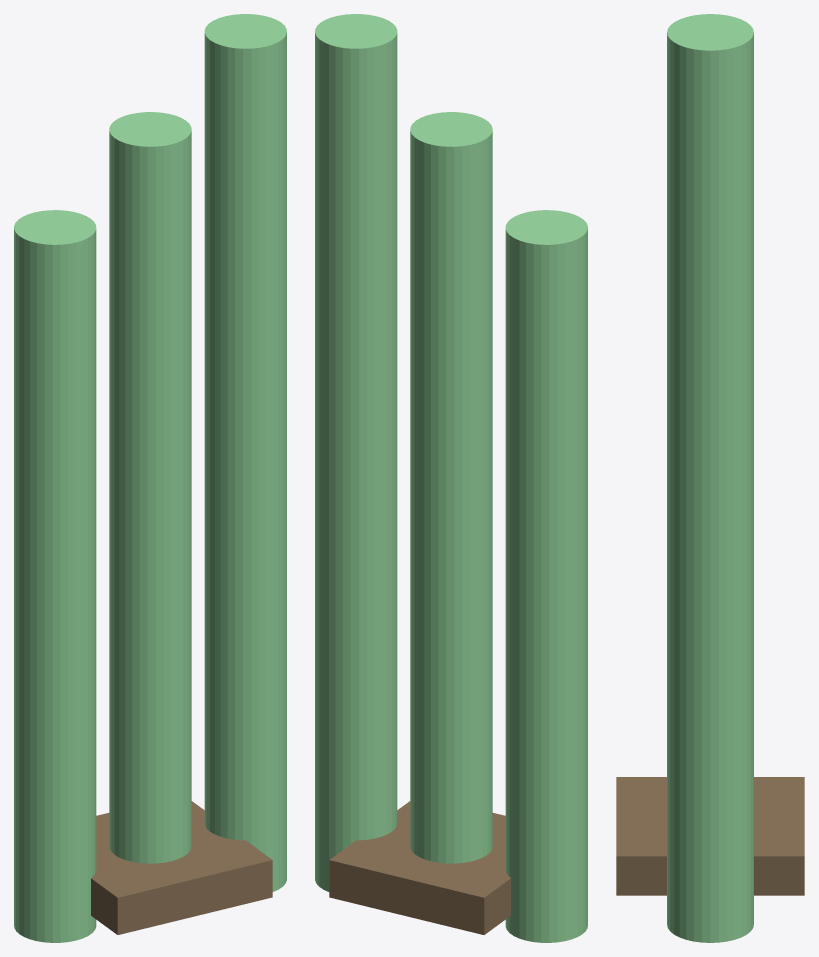
The model's file is pickup.bamboo.v1.glb.
3 renders of one model, left to right at view 1: azimuth 30°, elevation 25°; view 2: azimuth 150°, elevation 25°; view 3: azimuth 270°, elevation 25°, orthographic. The views are drawn at different scales.
Parts seen in each view (by area): view 1: pickup.bamboo.v1_stalk_2, pickup.bamboo.v1_stalk_1, pickup.bamboo.v1_stalk_0, pickup.bamboo.v1_base; view 2: pickup.bamboo.v1_stalk_2, pickup.bamboo.v1_stalk_1, pickup.bamboo.v1_stalk_0, pickup.bamboo.v1_base; view 3: pickup.bamboo.v1_stalk_2, pickup.bamboo.v1_base.
Boxes of the visible parts, x1=… form: pickup.bamboo.v1_stalk_2: x1=204, y1=14, x2=286, y2=891; pickup.bamboo.v1_stalk_1: x1=109, y1=112, x2=191, y2=863; pickup.bamboo.v1_stalk_0: x1=14, y1=210, x2=96, y2=942; pickup.bamboo.v1_base: x1=91, y1=801, x2=272, y2=934; pickup.bamboo.v1_stalk_2: x1=315, y1=14, x2=397, y2=891; pickup.bamboo.v1_stalk_1: x1=410, y1=112, x2=492, y2=863; pickup.bamboo.v1_stalk_0: x1=505, y1=210, x2=587, y2=942; pickup.bamboo.v1_base: x1=329, y1=801, x2=510, y2=934; pickup.bamboo.v1_stalk_2: x1=667, y1=14, x2=753, y2=942; pickup.bamboo.v1_base: x1=616, y1=777, x2=804, y2=895.
Size of the model in its own units: 0.22 by 0.68 by 0.13.
